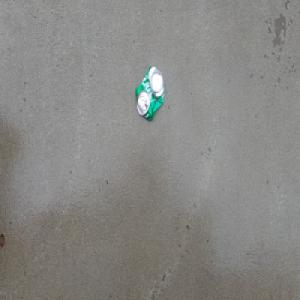SodaCan: (135, 63, 165, 122)
